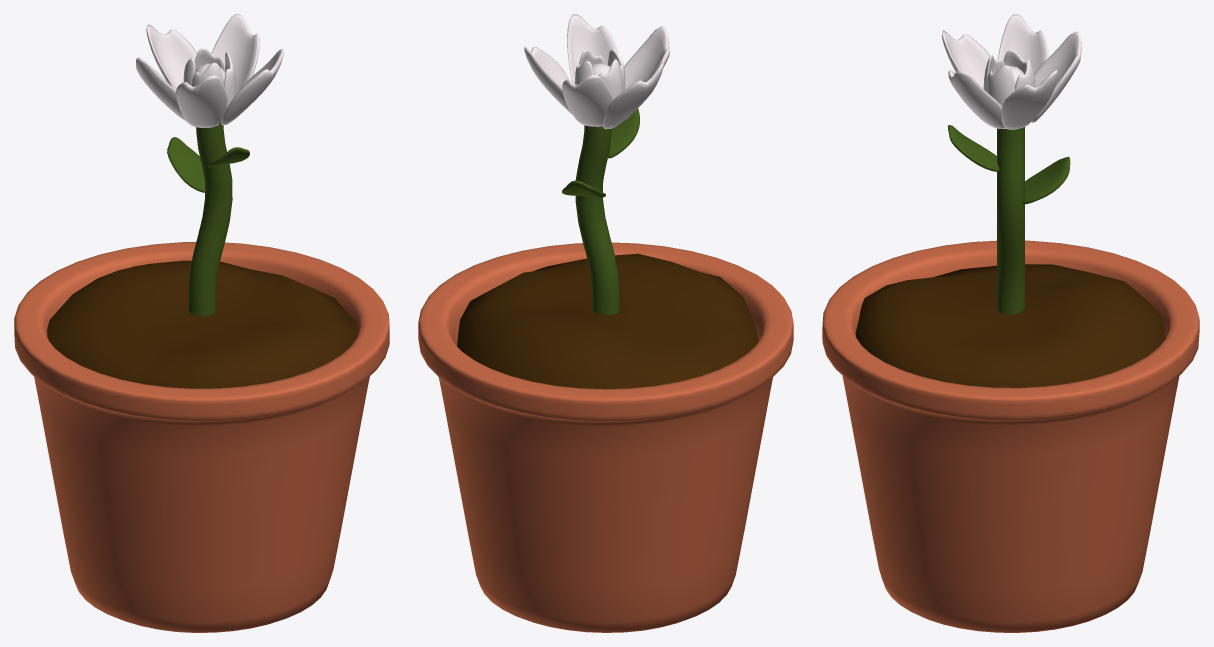
The model's file is flor_blanca.fbx.
3 renders of one model, left to right at view 1: azimuth 30°, elevation 25°; view 2: azimuth 150°, elevation 25°; view 3: azimuth 270°, elevation 25°, orthographic.
Visible parts, largest first — view 1: maceta.005; view 2: maceta.005; view 3: maceta.005.
Part boxes in pixels (x1,y1,x2,y2): maceta.005: [14, 14, 389, 632]; maceta.005: [418, 14, 793, 632]; maceta.005: [822, 14, 1199, 632].
Size of the model in its own units: 56.43 by 89.15 by 56.43.
